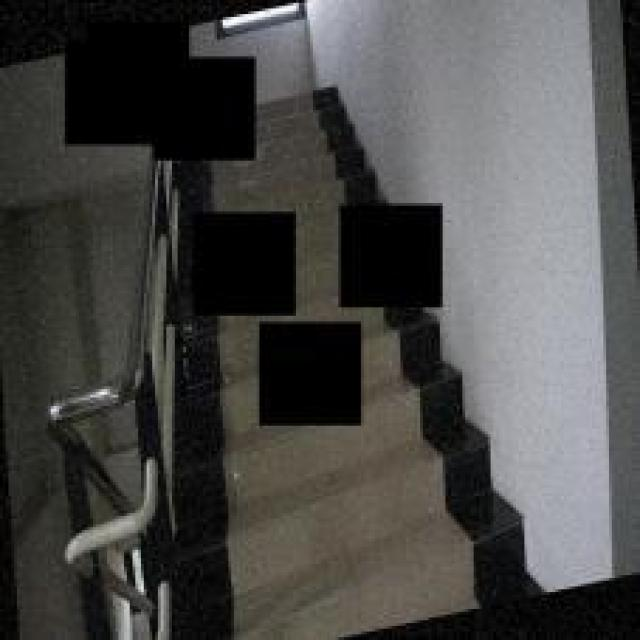upstair: (190, 441, 500, 638)
